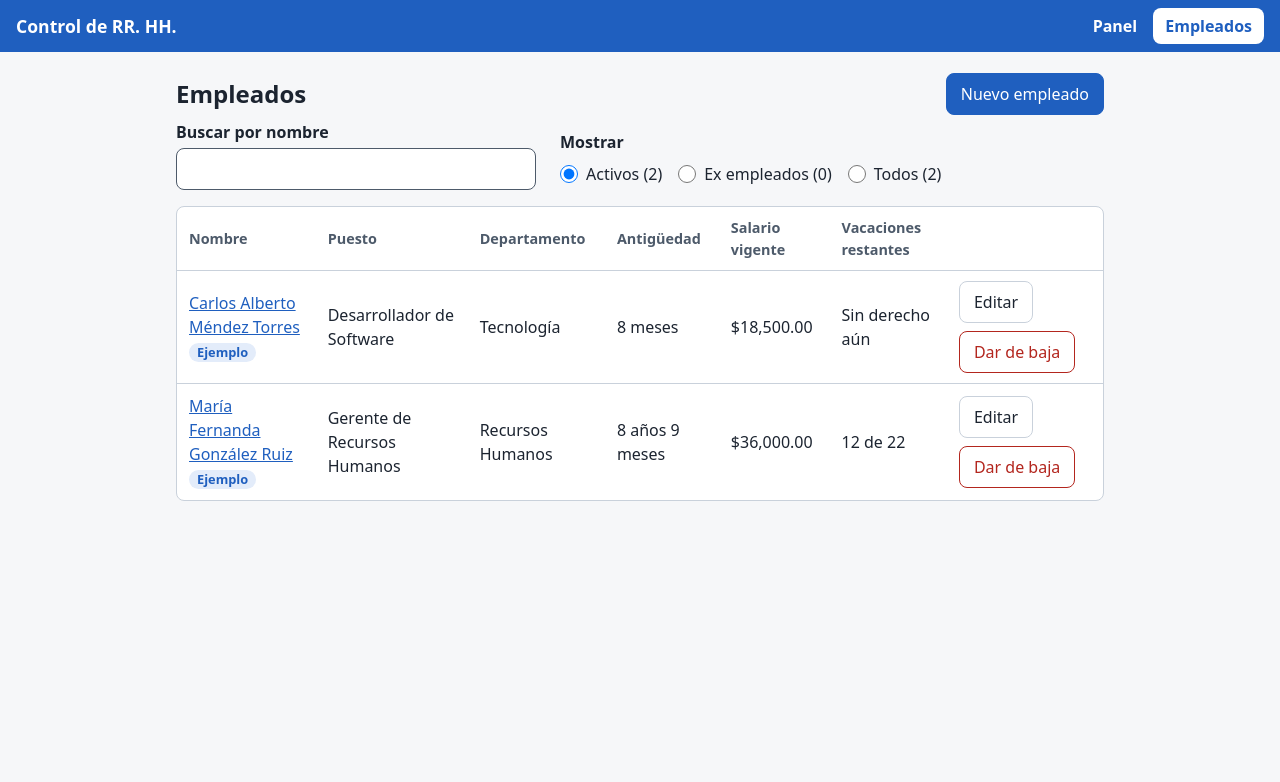
Test: empleados de ejemplo (A7) › se muestran con la etiqueta "Ejemplo" y se pueden editar y dar de baja
Expected: the text "Ejemplo" is shown 2 times, [189,343,256,362]; [189,470,256,489]
Expected: the link with aria-label "Editar a María Fernanda González Ruiz" is shown, [959,396,1033,438]
Click the link "María Fernanda González Ruiz".
click(211, 406)  # box [189,395,293,465]
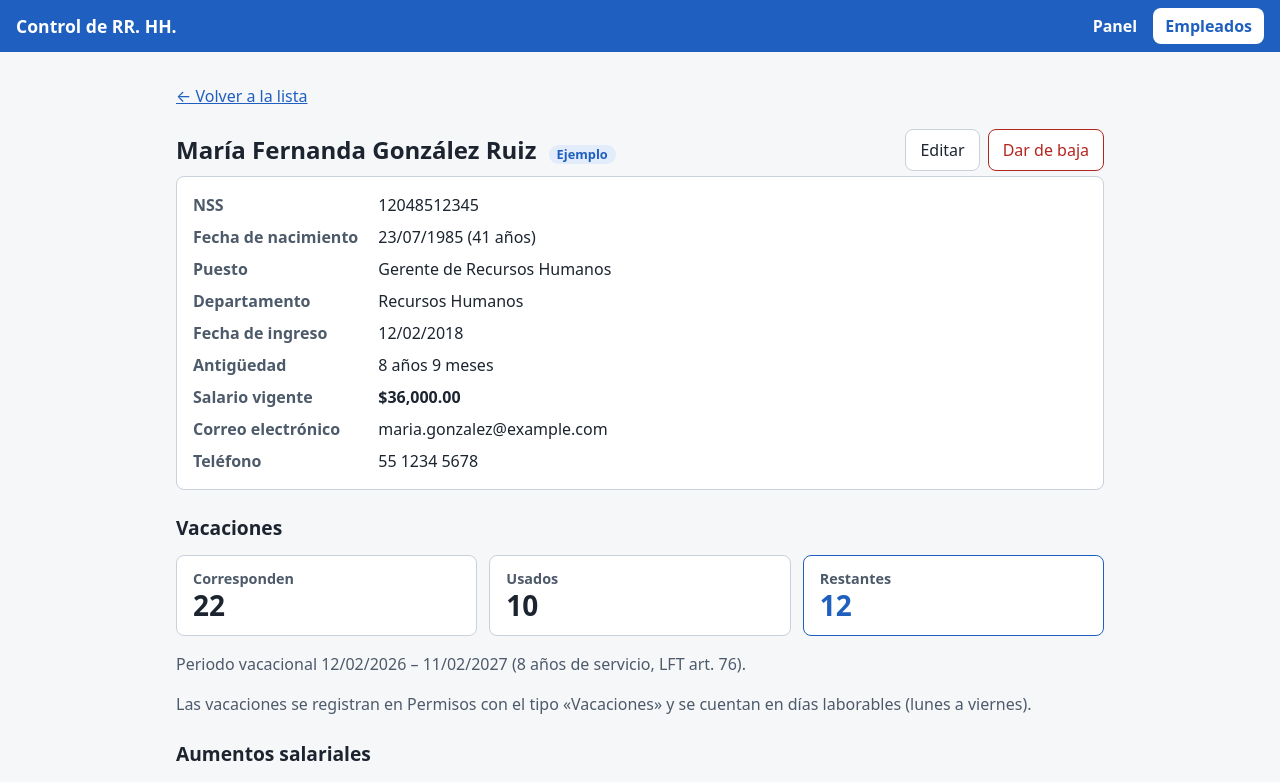
Expected: the heading "María Fernanda González Ruiz Ejemplo" is shown, [176,132,616,168]
